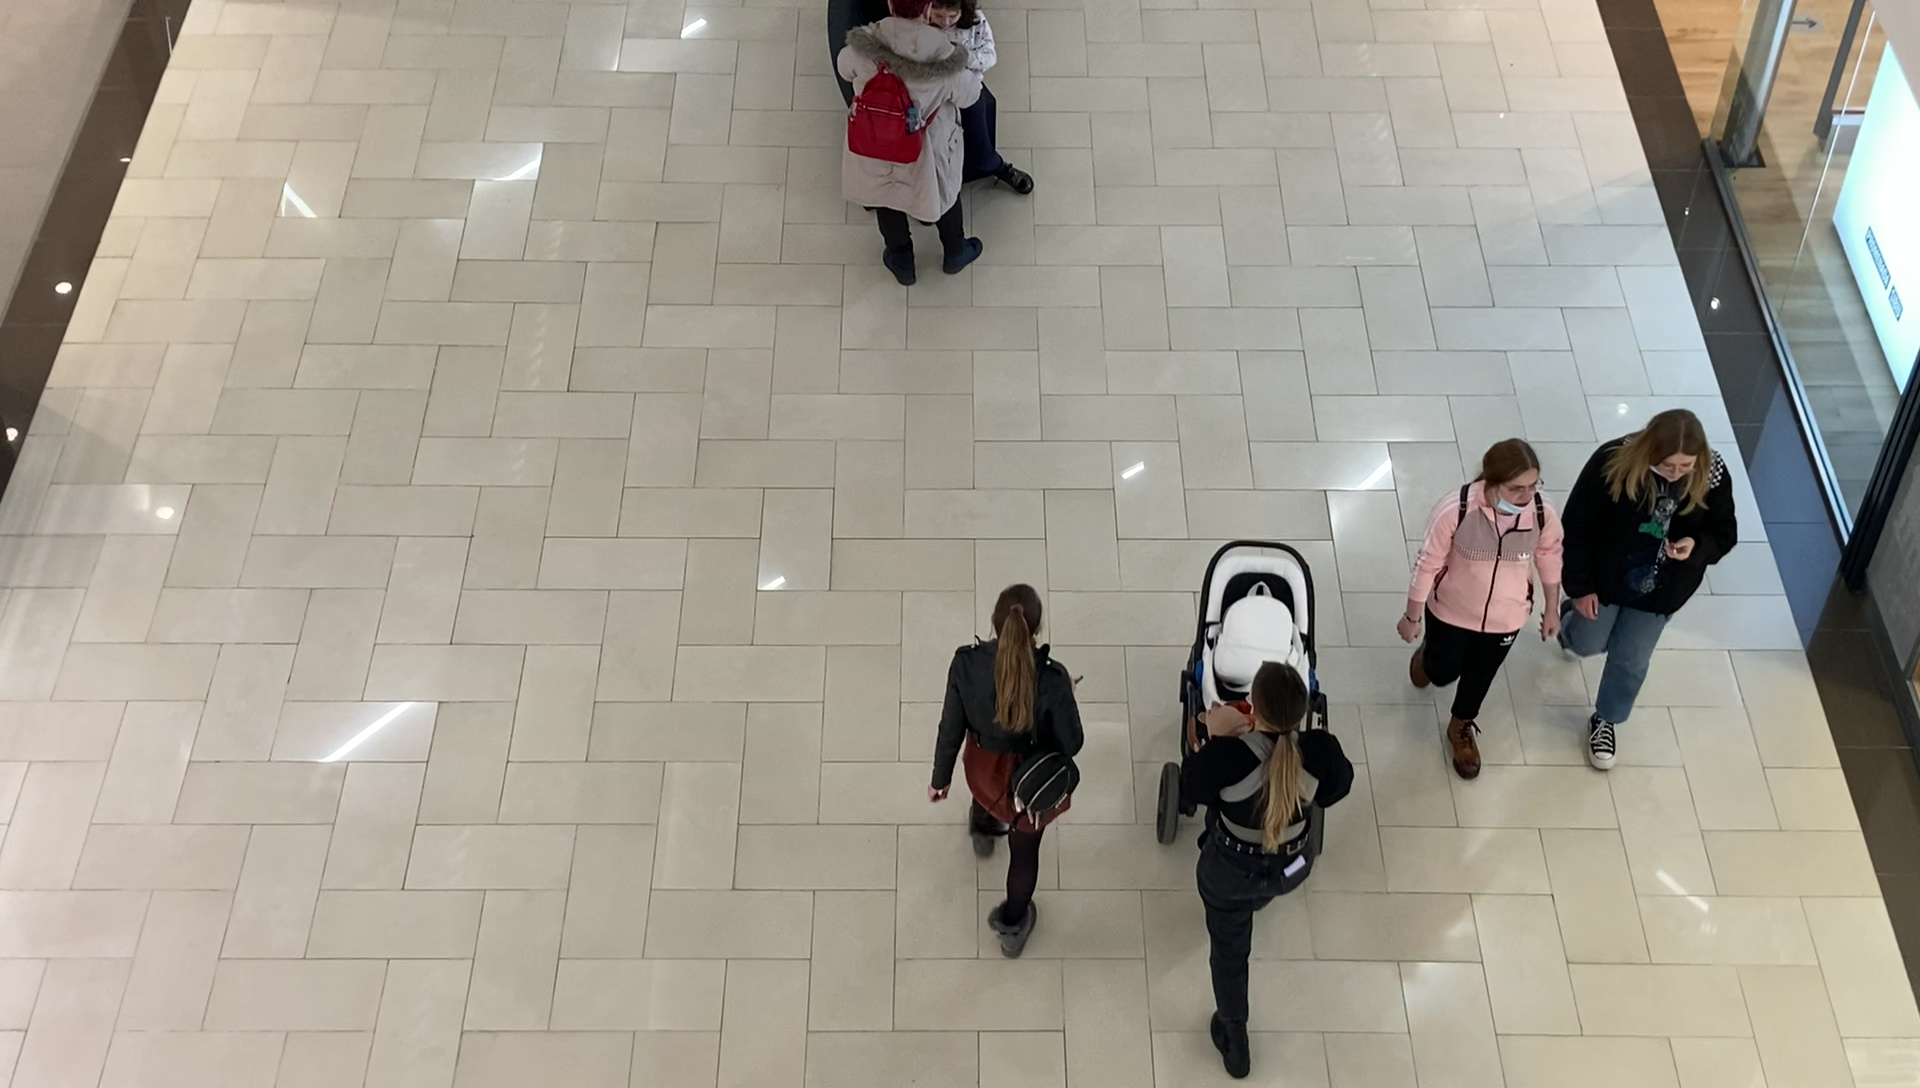person: (1190, 663, 1355, 1077), (1558, 408, 1739, 769), (929, 584, 1086, 961), (1400, 438, 1560, 784)
